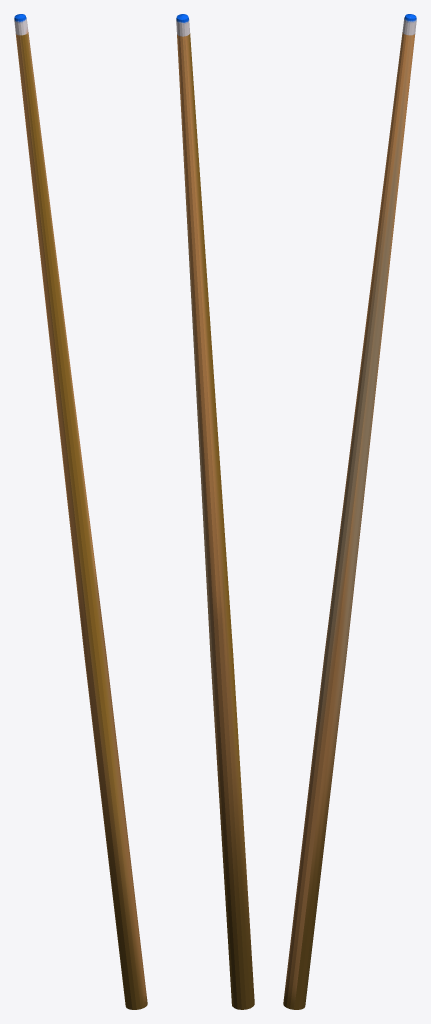
Rendered from cue.obj.
3 renders of one model, left to right at view 1: azimuth 90°, elevation 25°; view 2: azimuth 150°, elevation 25°; view 3: azimuth 270°, elevation 25°, orthographic. The views are drawn at different scales.
Parts seen in each view (by area): view 1: Cylinder_Cylinder.002; view 2: Cylinder_Cylinder.002; view 3: Cylinder_Cylinder.002.
Boxes of the visible parts, box(x1,y1,x2,y2) form: Cylinder_Cylinder.002: box(14, 14, 147, 1009); Cylinder_Cylinder.002: box(176, 14, 254, 1009); Cylinder_Cylinder.002: box(283, 14, 416, 1009).
Size of the model in its own units: 1.01 by 49.54 by 6.05.
